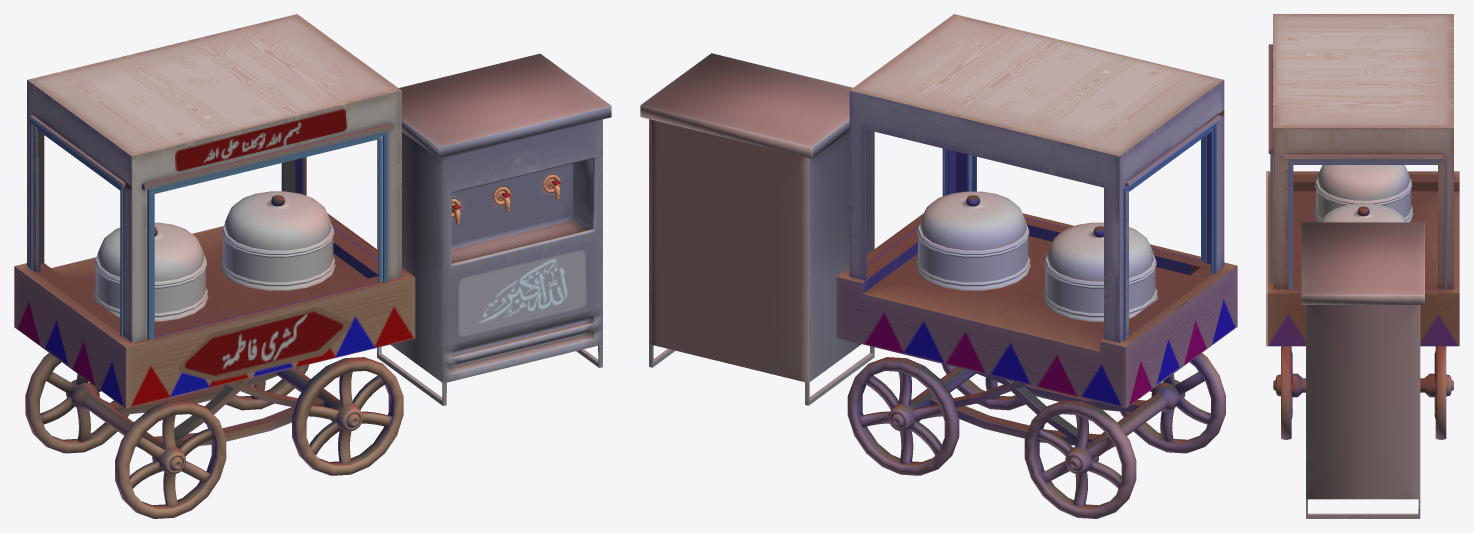
The model's file is Koshary+dispens.fbx.
3 views of the same model, side by side, from view 1: azimuth 30°, elevation 25°; view 2: azimuth 150°, elevation 25°; view 3: azimuth 270°, elevation 25° (orthographic). The views are drawn at different scales.
Visible parts, largest first — view 1: Koshary_low, Dispens_low; view 2: Koshary_low, Dispens_low; view 3: Koshary_low, Dispens_low.
Part boxes in pixels (left/top/right/bottom): Koshary_low: left=14, top=14, right=415, bottom=518; Dispens_low: left=377, top=53, right=611, bottom=405; Koshary_low: left=836, top=14, right=1237, bottom=518; Dispens_low: left=640, top=53, right=874, bottom=405; Koshary_low: left=1266, top=14, right=1459, bottom=439; Dispens_low: left=1301, top=222, right=1424, bottom=518.
Bounding box in the file's own units: 1458 × 1040 × 558.
1 material, 1 textured.
